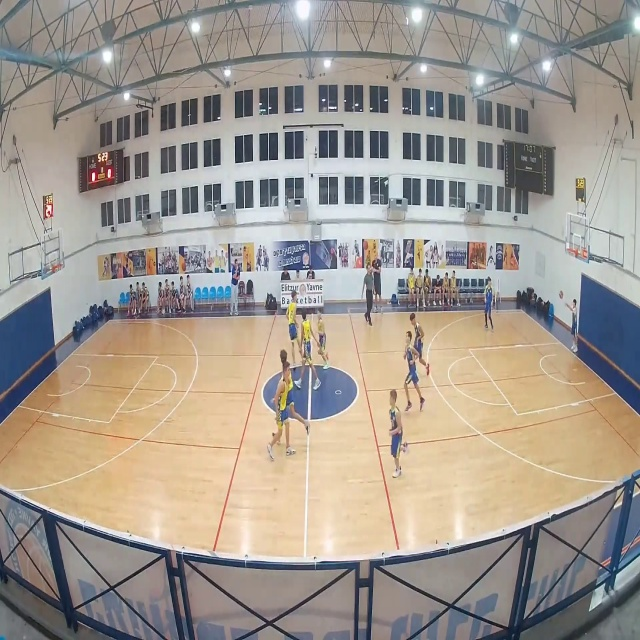Basketball: (558, 291, 563, 299)
